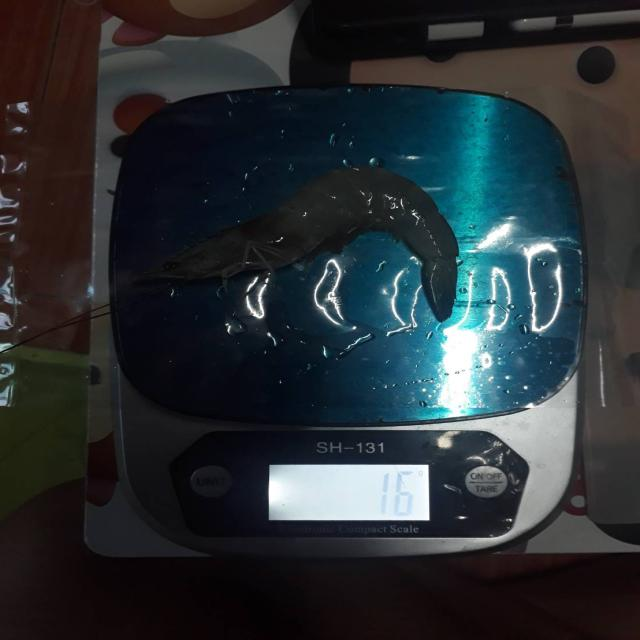1: (380, 472, 392, 517)
6: (395, 470, 415, 517)
screen: (270, 464, 430, 521)
